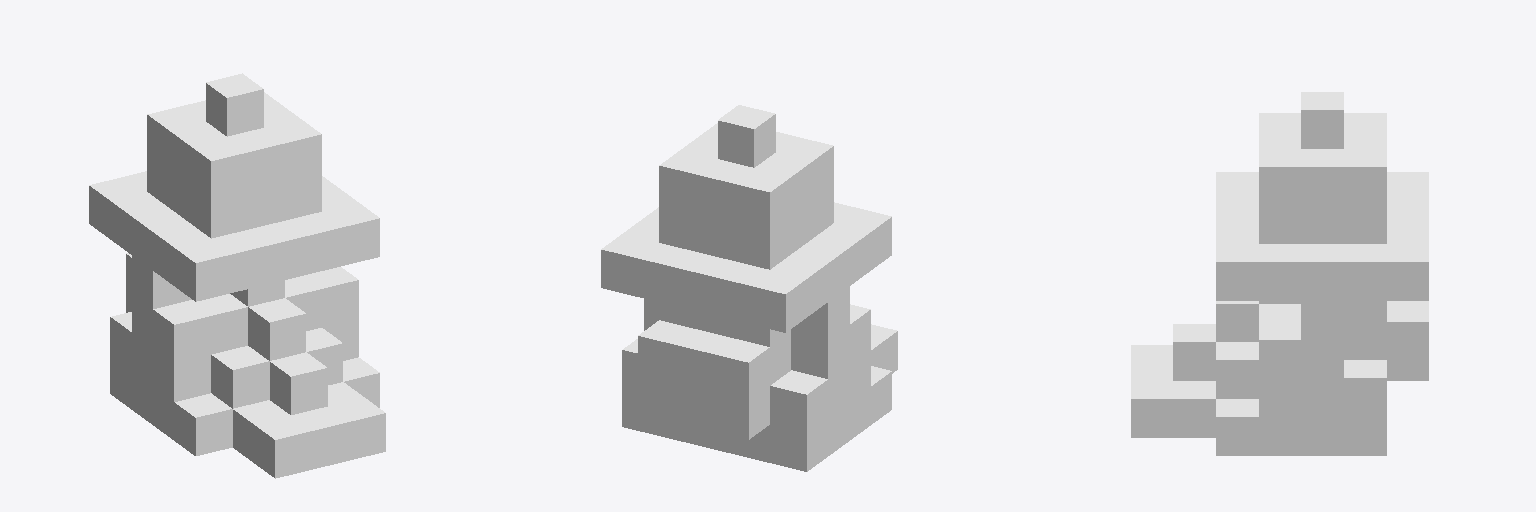
File: GnomeBasePurple.obj
3 views of the same model, side by side, from view 1: azimuth 30°, elevation 25°; view 2: azimuth 150°, elevation 25°; view 3: azimuth 270°, elevation 25° (orthographic).
Visible parts, largest first — view 1: GnomeBase; view 2: GnomeBase; view 3: GnomeBase.
Part boxes in pixels (x1,y1,x2,y2): GnomeBase: (89, 73, 385, 478); GnomeBase: (601, 105, 897, 471); GnomeBase: (1131, 92, 1428, 455).
Bounding box in the file's own units: 0.5 × 0.8 × 0.7.